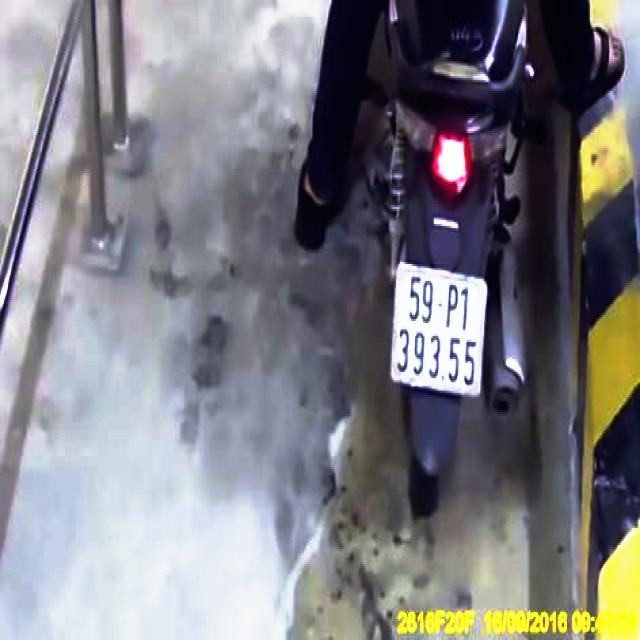license_plate: (393, 268, 486, 398)
